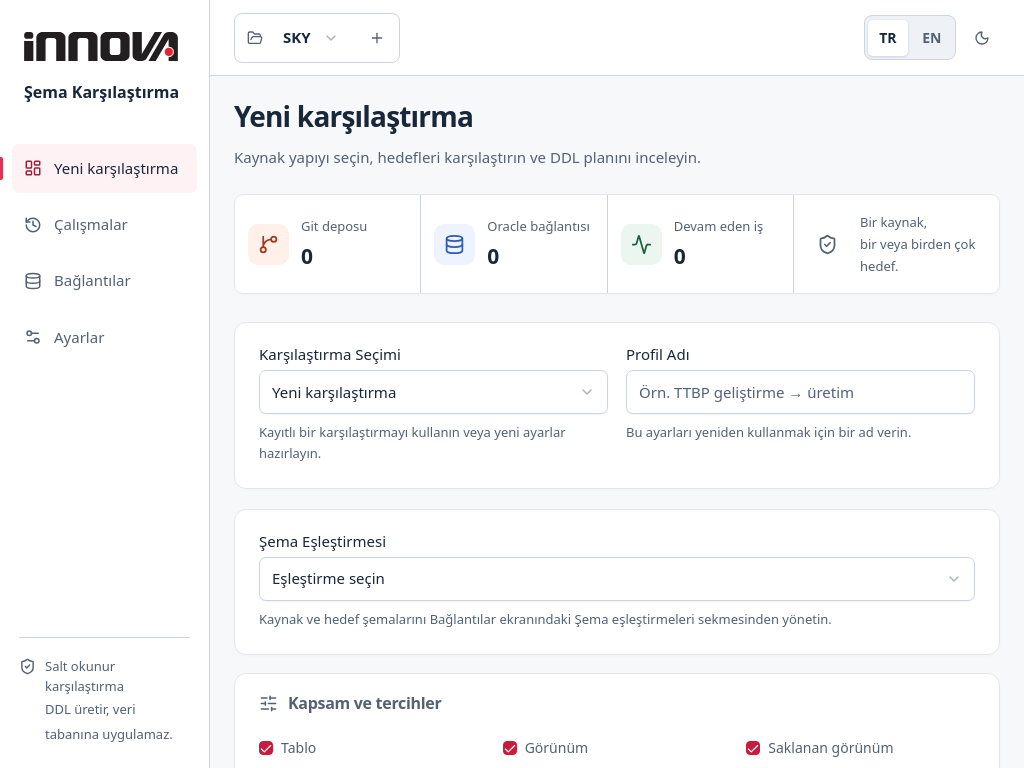
Test: ignores the old project response after selecting another project
Step 1. Click the dropdown named "Proje" → (311, 38), box [271,16,351,60]
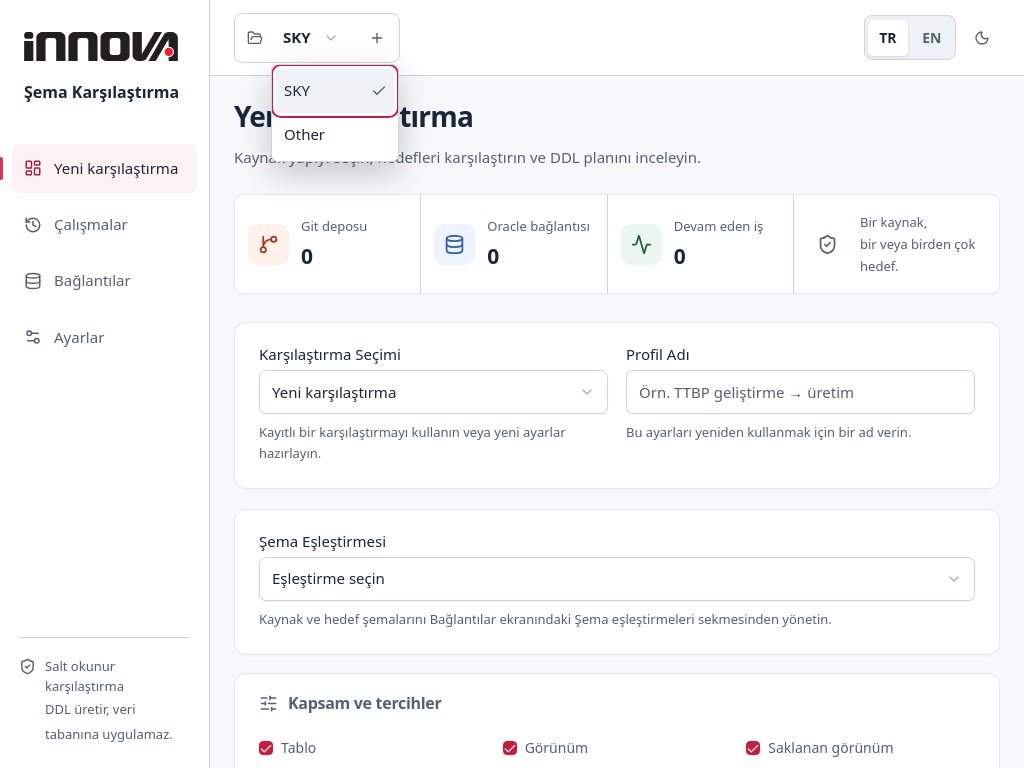
Step 2. Click the option "Other" → (305, 134), box [284,124,325,144]
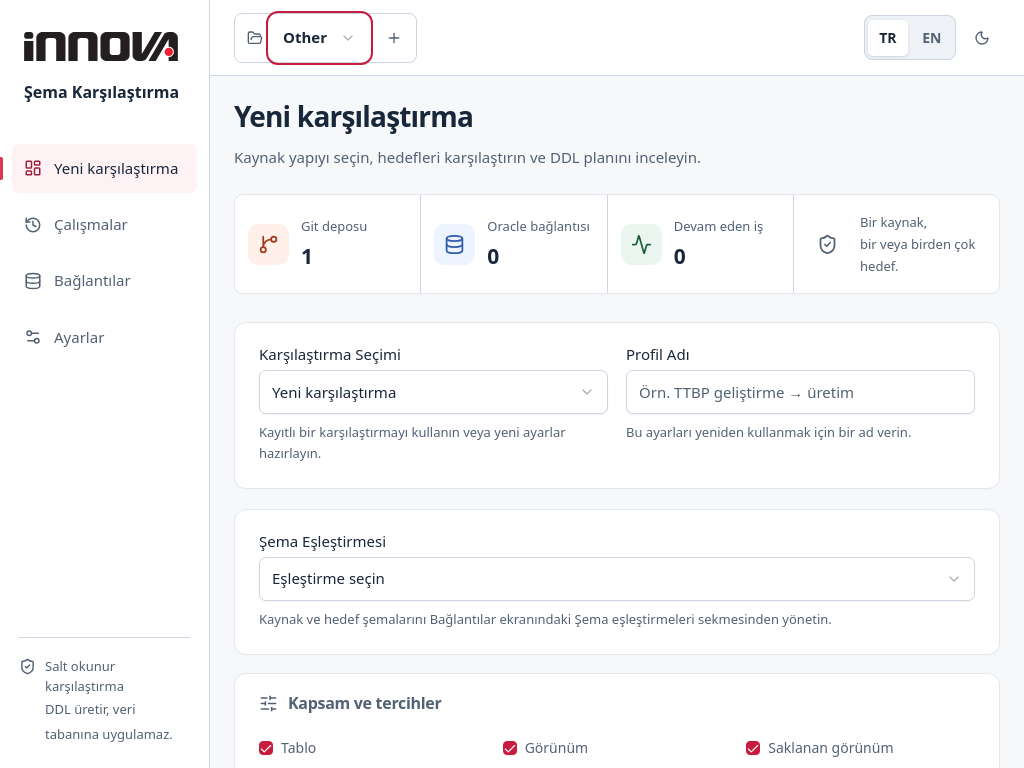
Step 3. Click the button "Bağlantılar" → (104, 281), box [12,256,197,306]
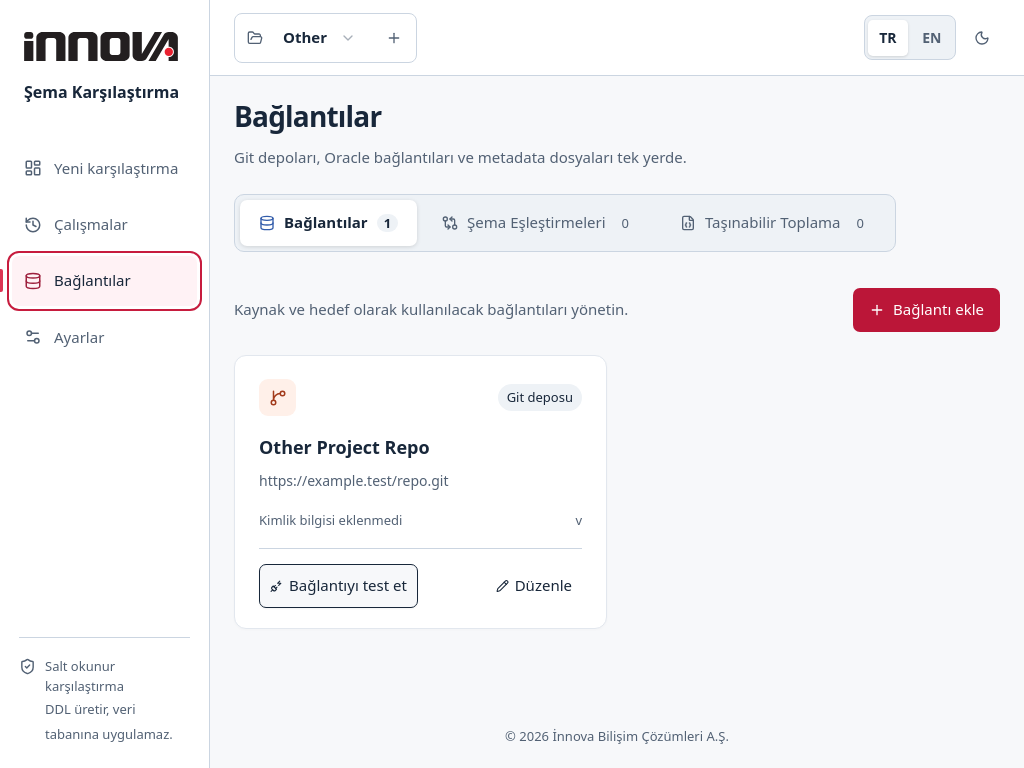
Check: the heading "Other Project Repo" is shown, box [259,435,430,459]
